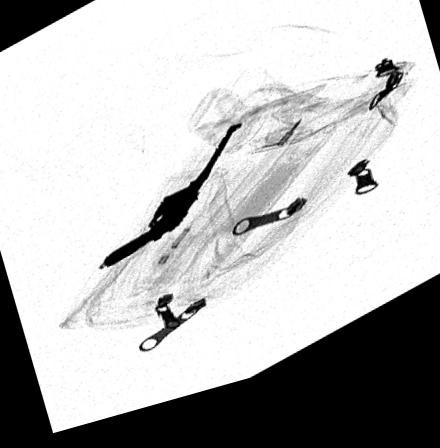Gun: (103, 133, 244, 275)
